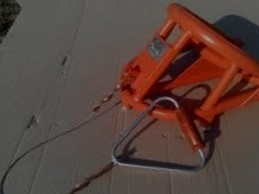chock: (111, 0, 259, 134)
